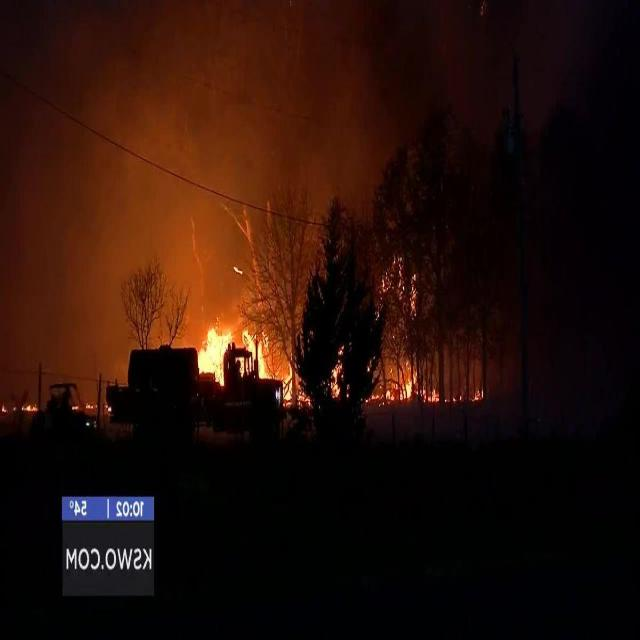fire: (200, 329, 228, 371)
